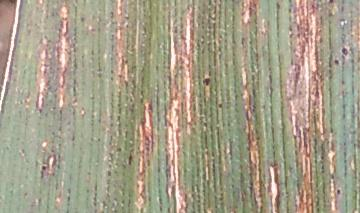tarspot: (338, 44, 352, 58), (126, 148, 135, 168), (201, 73, 212, 89), (39, 161, 49, 174), (332, 56, 341, 68), (335, 185, 342, 199), (216, 100, 224, 112), (327, 1, 337, 6)
